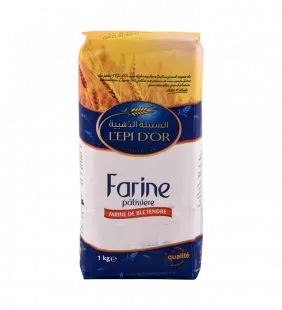L'EPI D'OR: (68, 20, 213, 284)
